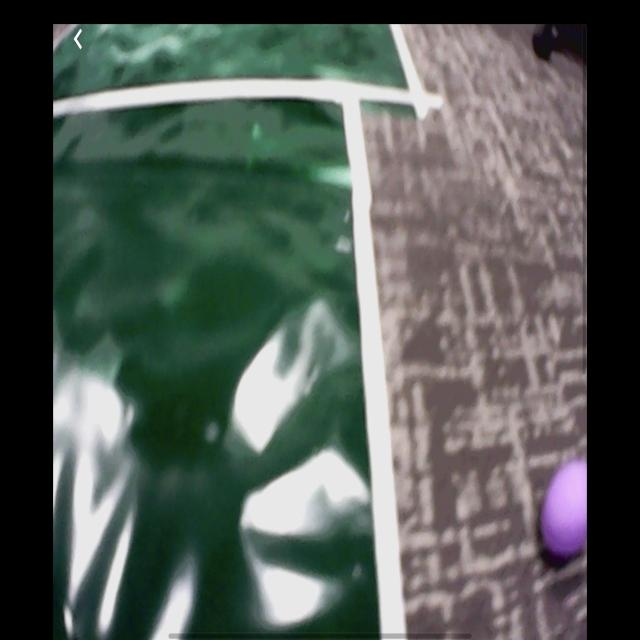ball: (540, 459, 588, 563)
